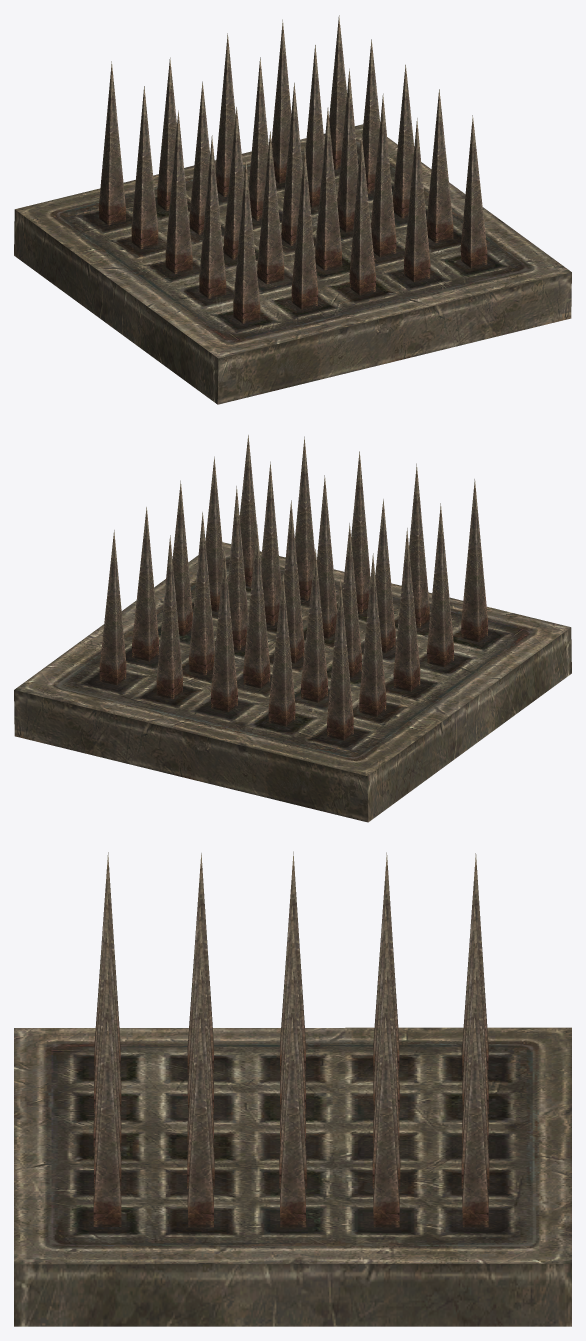
File: SM_Spike_trigger.fbx
3 renders of one model, top to bottom at view 1: azimuth 30°, elevation 25°; view 2: azimuth 150°, elevation 25°; view 3: azimuth 270°, elevation 25°, orthographic. The views are drawn at different scales.
Visible parts, largest first — view 1: SM_Spike_trigger; view 2: SM_Spike_trigger; view 3: SM_Spike_trigger.
Part boxes in pixels (x1,y1,x2,y2): SM_Spike_trigger: (14,15,571,404); SM_Spike_trigger: (14,435,571,822); SM_Spike_trigger: (14,851,571,1326).
Size of the model in its own units: 128 by 71.19 by 128.
